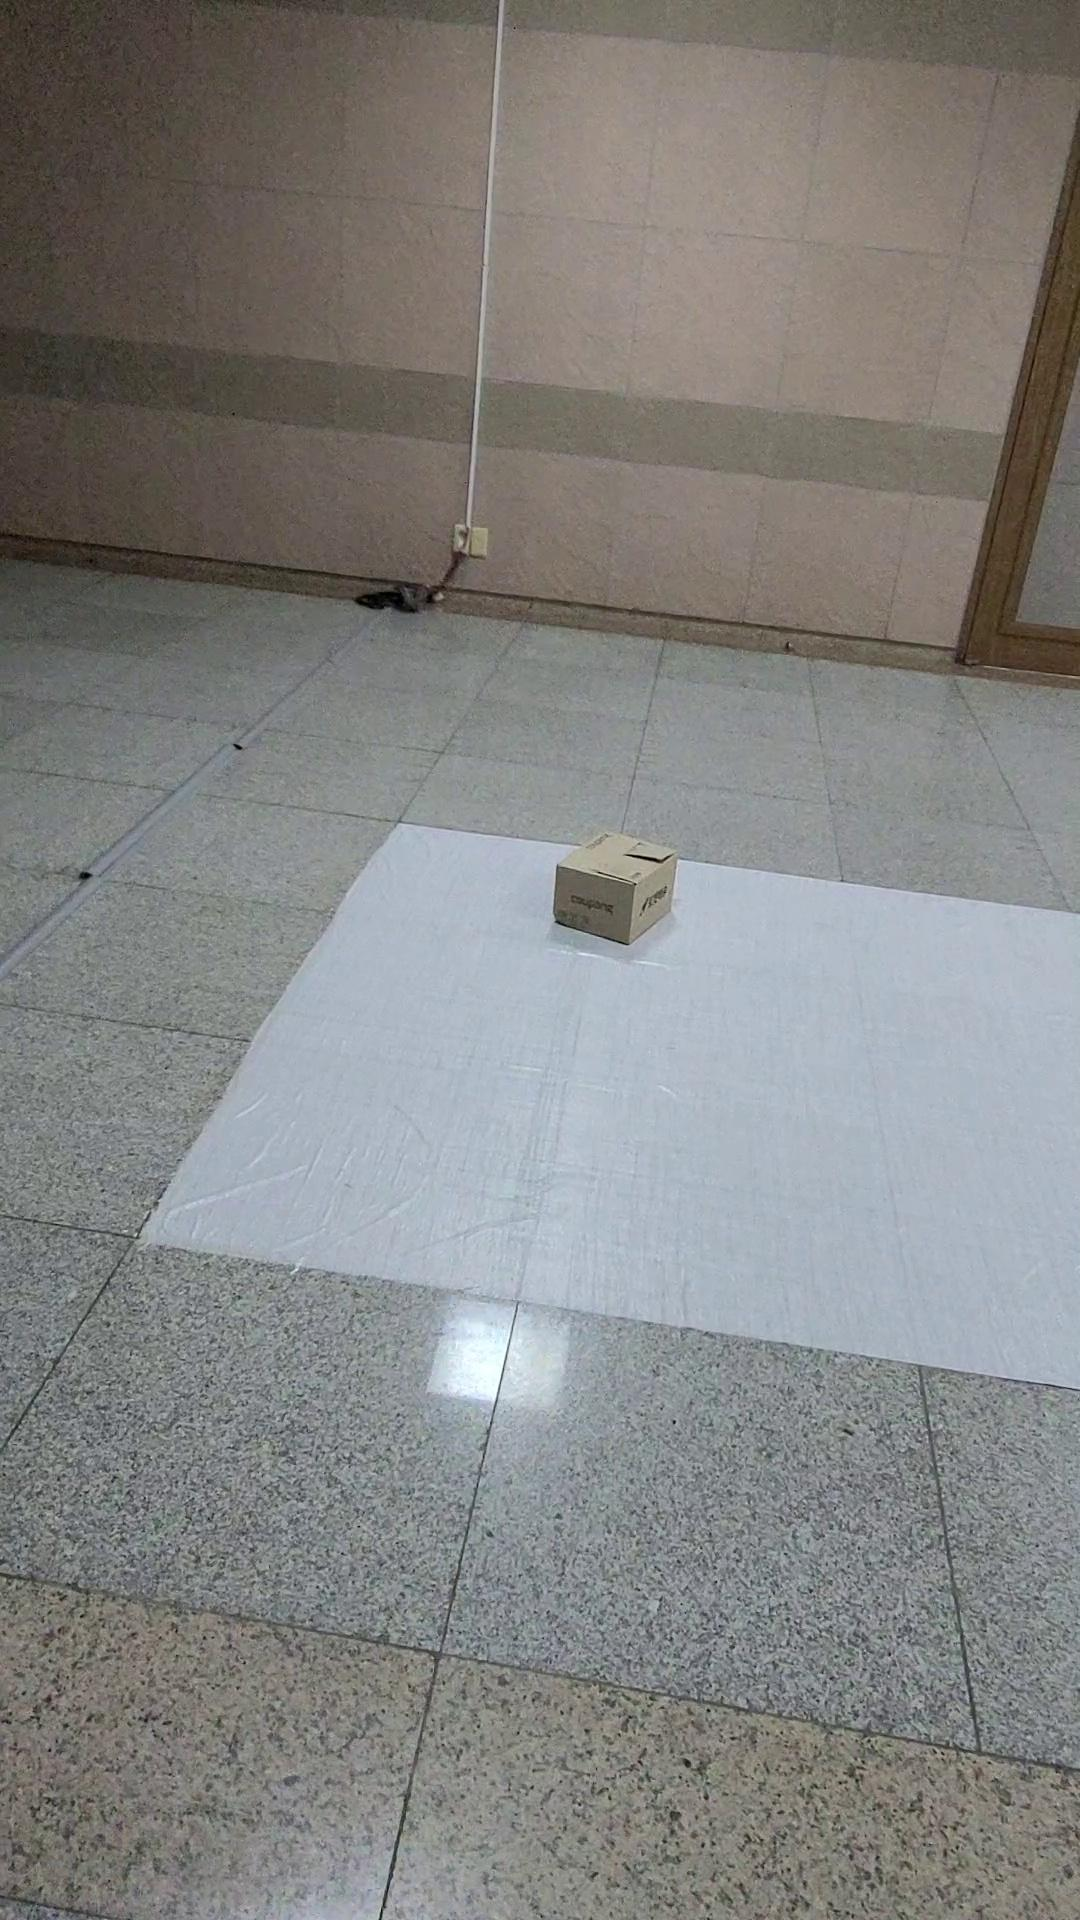Box: (513, 800, 723, 985)
